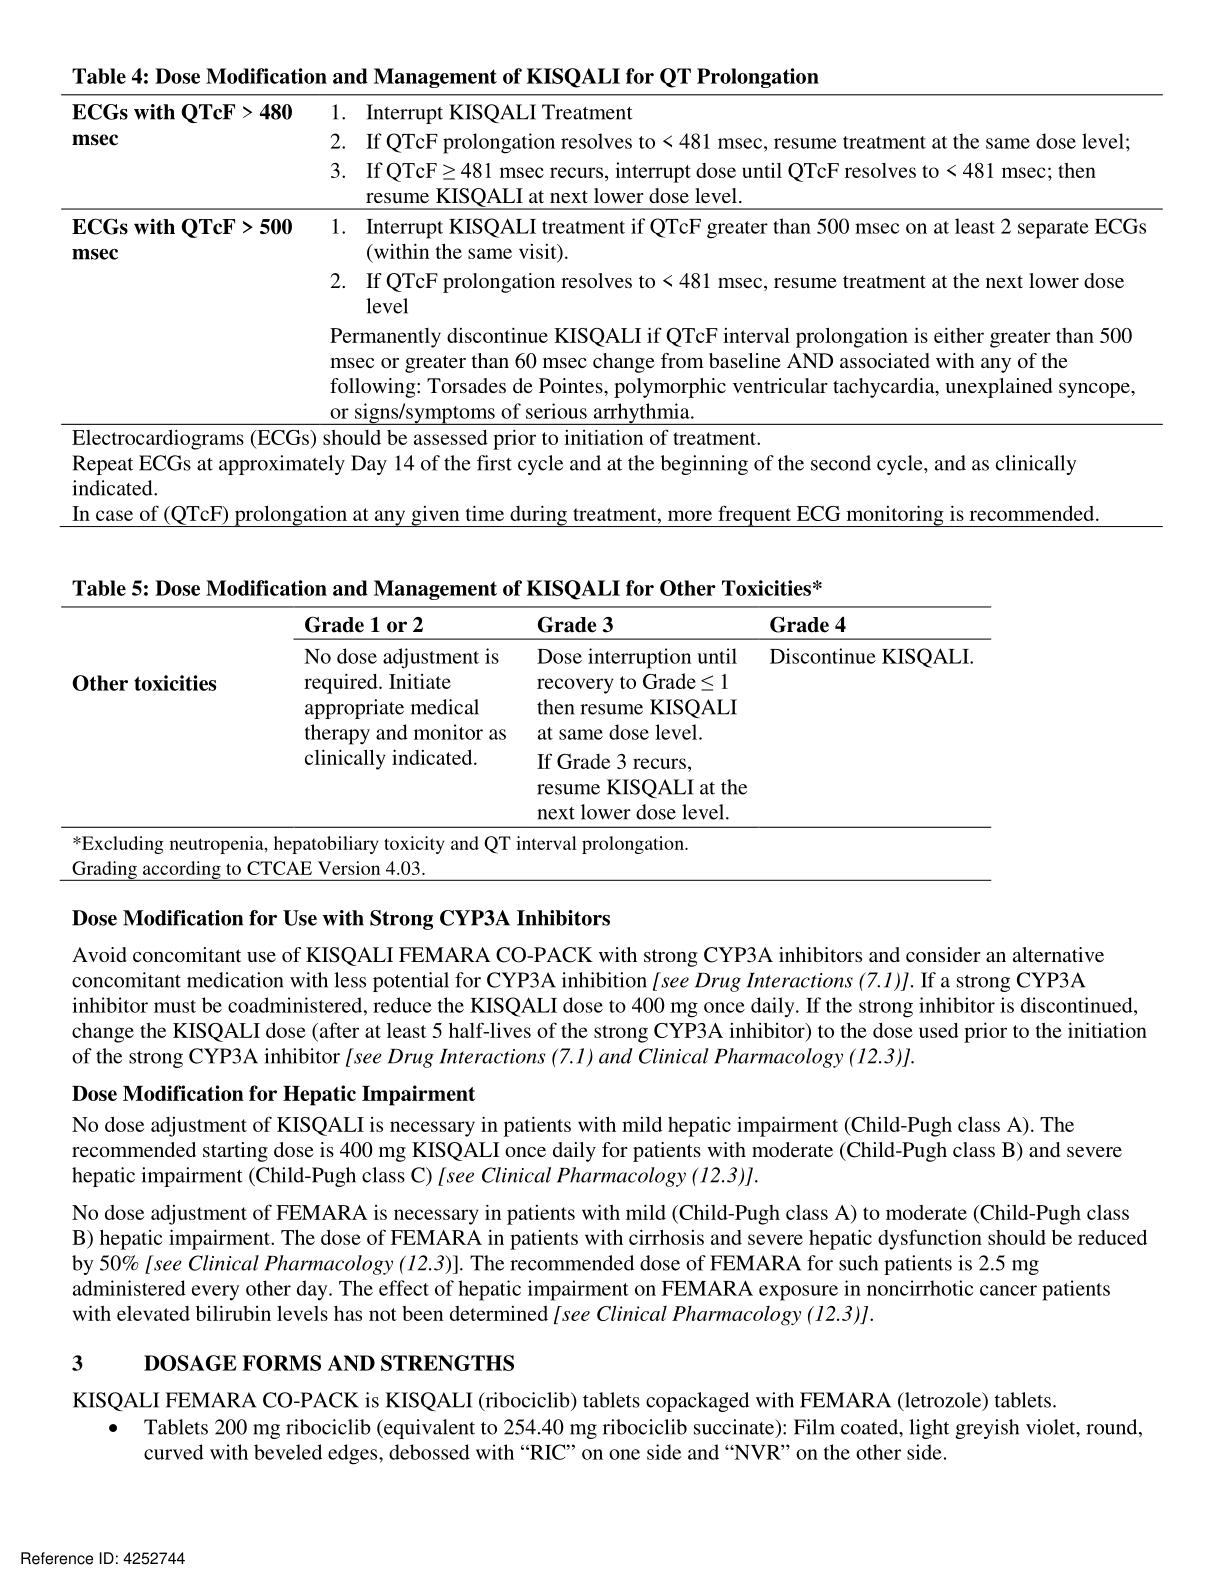partial_lined: (58, 93, 1164, 426), (60, 606, 991, 829)
